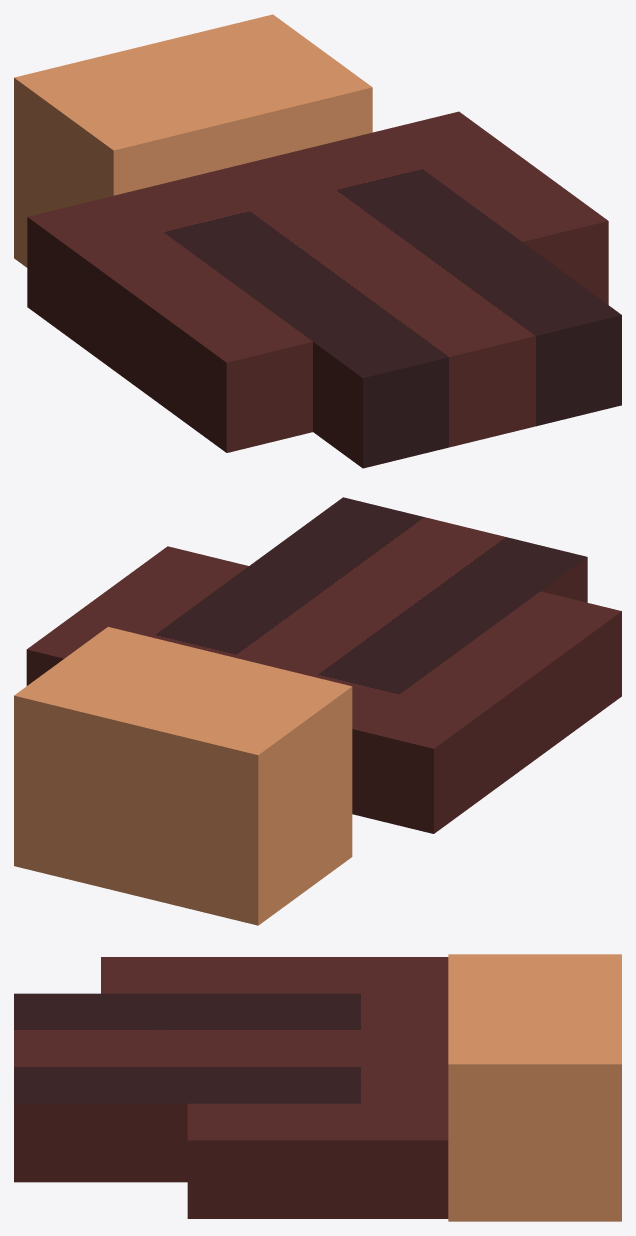
File: Glove.fbx
3 views of the same model, one above another, from view 1: azimuth 30°, elevation 25°; view 2: azimuth 150°, elevation 25°; view 3: azimuth 270°, elevation 25° (orthographic). The views are drawn at different scales.
Visible parts, largest first — view 1: cube_1, cube, cube_3, cube_2; view 2: cube, cube_1, cube_3, cube_2; view 3: cube_1, cube, cube_2, cube_3.
Part boxes in pixels (x1,y1,x2,y2): cube_1: [114, 132, 621, 468]; cube: [14, 14, 372, 267]; cube_3: [27, 196, 312, 452]; cube_2: [373, 111, 608, 304]; cube: [14, 627, 352, 925]; cube_1: [152, 497, 587, 728]; cube_3: [352, 591, 621, 833]; cube_2: [26, 546, 248, 685]; cube_1: [14, 993, 448, 1182]; cube: [448, 954, 621, 1221]; cube_2: [187, 1103, 448, 1218]; cube_3: [101, 957, 448, 993].
Size of the model in its own units: 31.25 by 12.5 by 43.75.
Materials: 1 (1 with a texture image).
